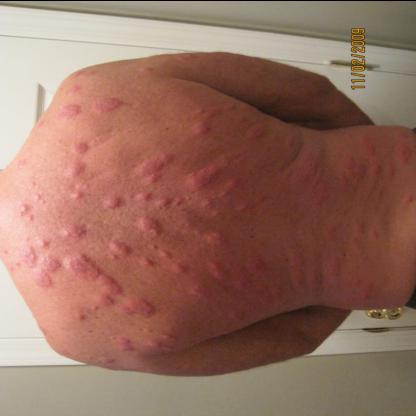Bed Bug: (282, 152, 330, 210), (184, 144, 240, 190), (236, 250, 280, 302), (23, 236, 61, 295), (174, 216, 230, 247), (192, 95, 254, 121), (198, 190, 264, 214), (134, 148, 176, 184), (307, 250, 341, 294), (15, 180, 45, 226), (64, 250, 93, 288), (349, 221, 380, 255), (140, 328, 180, 354), (117, 296, 157, 320), (61, 212, 91, 244), (94, 263, 126, 293), (346, 273, 374, 307), (339, 153, 365, 188), (59, 182, 93, 206), (289, 238, 303, 296), (93, 91, 127, 114), (0, 239, 22, 274), (368, 155, 396, 181), (226, 303, 258, 325), (105, 236, 133, 260), (207, 252, 230, 280), (171, 254, 197, 277), (243, 121, 271, 142), (153, 194, 189, 210), (186, 282, 212, 304), (350, 133, 380, 152), (398, 127, 412, 167), (134, 215, 160, 236), (63, 160, 92, 178), (84, 294, 115, 310), (110, 334, 136, 352), (56, 102, 82, 120), (32, 313, 50, 338), (174, 52, 206, 66), (72, 68, 108, 80), (86, 354, 121, 366), (247, 151, 269, 170), (101, 192, 123, 210), (69, 140, 93, 156), (61, 82, 87, 96), (14, 152, 32, 172), (318, 224, 336, 244), (133, 188, 152, 206), (188, 122, 212, 135), (158, 244, 172, 266), (398, 190, 413, 208), (138, 58, 154, 74), (136, 256, 154, 270), (283, 127, 294, 149), (36, 116, 48, 132), (70, 314, 88, 322), (376, 186, 386, 198), (148, 238, 156, 252), (336, 209, 350, 216)
